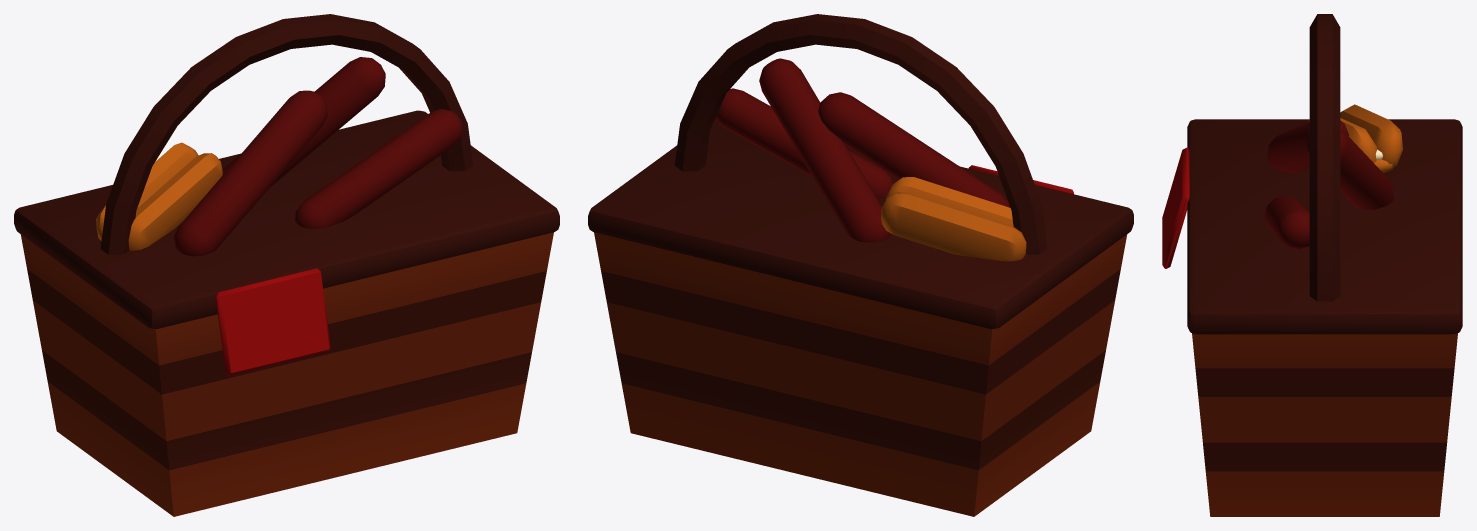
File: Basket.obj
3 views of the same model, side by side, from view 1: azimuth 30°, elevation 25°; view 2: azimuth 150°, elevation 25°; view 3: azimuth 270°, elevation 25° (orthographic). The views are drawn at different scales.
Visible parts, largest first — view 1: Basket; view 2: Basket; view 3: Basket.
Boxes of the visible parts, box(x1,y1,x2,y2) form: Basket: box(14, 14, 559, 516); Basket: box(588, 14, 1133, 516); Basket: box(1162, 14, 1462, 516).
Size of the model in its own units: 2.76 by 2.63 by 1.78.
